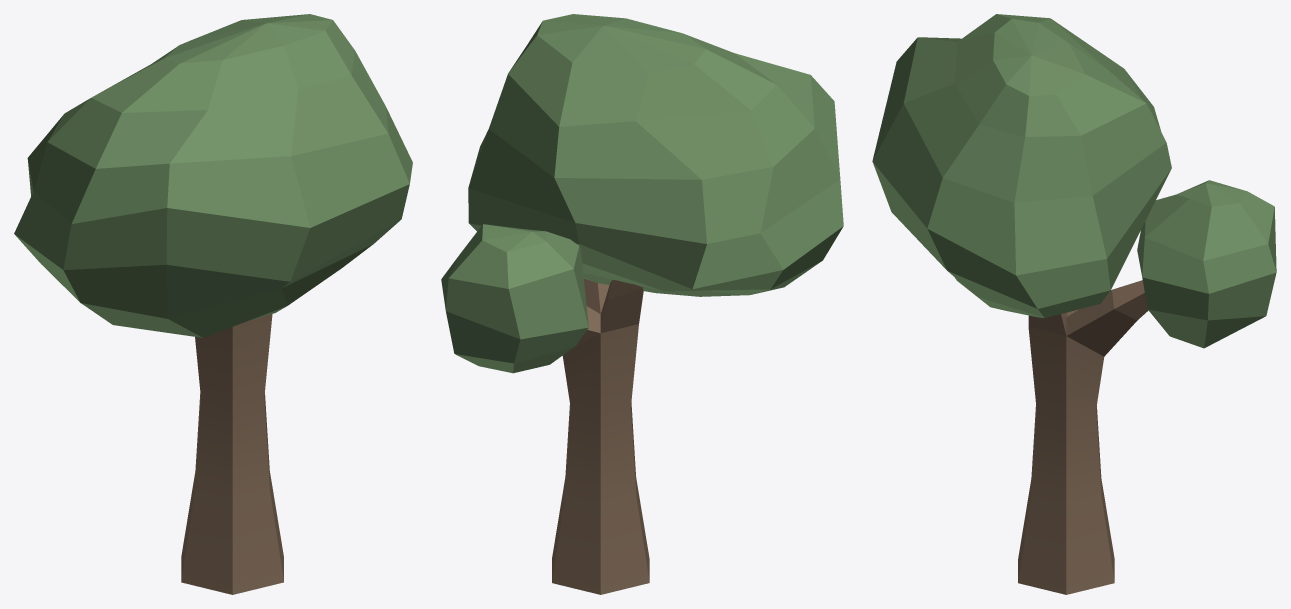
The model's file is Tree_Separate.fbx.
The picture shows the model from 3 angles, left to right: view 1: azimuth 30°, elevation 25°; view 2: azimuth 150°, elevation 25°; view 3: azimuth 270°, elevation 25°; orthographic projection. The views are drawn at different scales.
Parts seen in each view (by area): view 1: pSphere2, pCylinder1; view 2: pSphere2, pCylinder1, pSphere1; view 3: pSphere2, pCylinder1, pSphere1.
Boxes of the visible parts, box(x1,y1,x2,y2) form: pSphere2: box(14, 14, 412, 337); pCylinder1: box(181, 314, 283, 594); pSphere2: box(468, 14, 843, 296); pCylinder1: box(552, 278, 649, 594); pSphere1: box(441, 224, 588, 373); pSphere2: box(872, 14, 1171, 317); pCylinder1: box(1018, 280, 1148, 594); pSphere1: box(1137, 180, 1276, 348).
Bounding box in the file's own units: 9.84 × 14.29 × 10.
